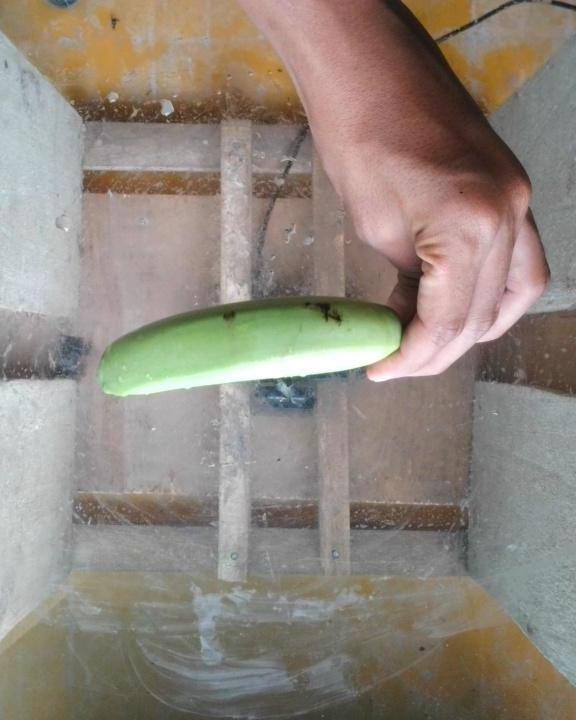CLASS B: (93, 290, 418, 401)
Class A: (297, 292, 357, 337), (215, 301, 251, 331)
